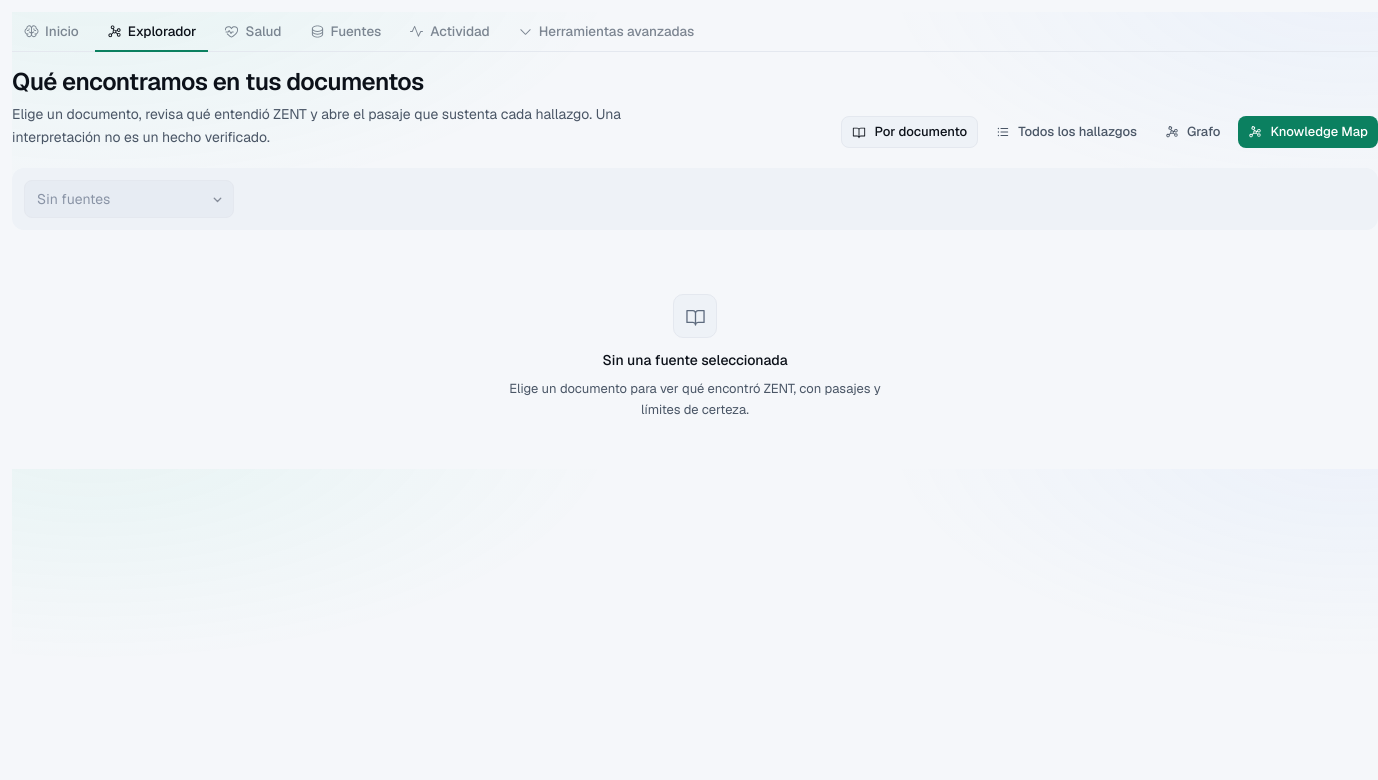
KnowledgeExplorerPage — modos excluyentes › al cambiar a todos los hallazgos carga la vista técnica y resetea filtros incompatibles
Click the button "Todos los hallazgos".
click(1067, 132)  # box [986, 116, 1147, 148]
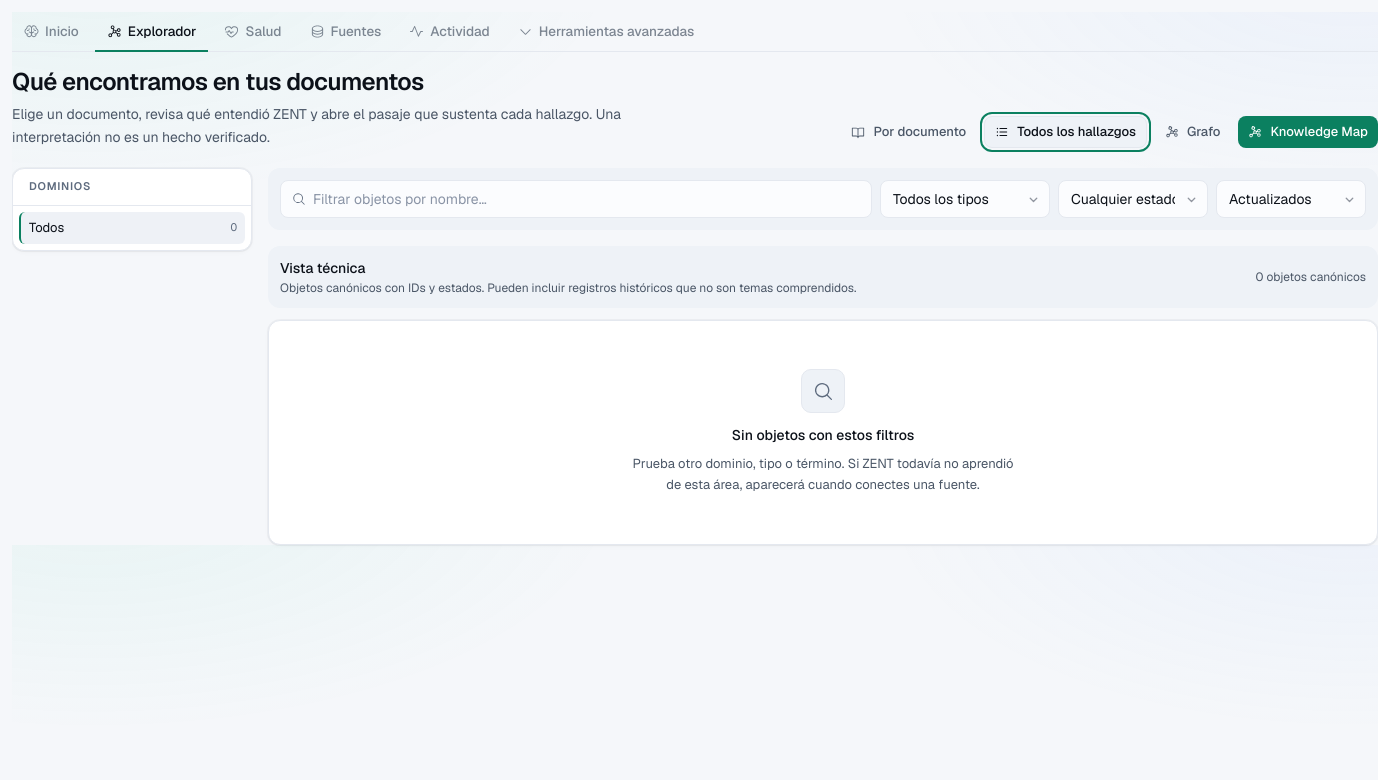
expect the element with test id "technical-view-banner" is shown: met, box [268, 246, 1377, 308]
expect the text "Vista técnica" is shown: met, box [280, 259, 365, 277]
